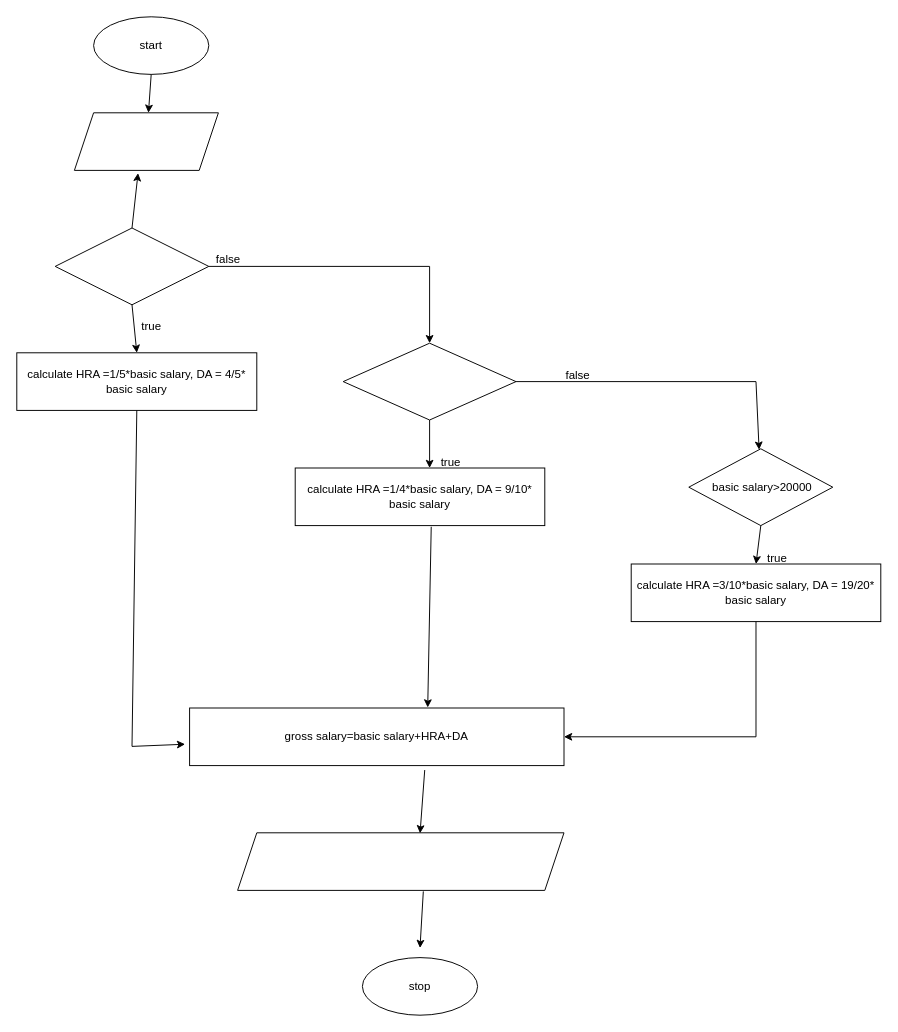
This 898x1032 diagram has some shape labels left out. The shapes that lost their labels are listed below. From the top down, each one's centre as x and y in pixels, then its label:
pixel 145 141: input basic salary
pixel 131 266: if basic salary<=10000
pixel 429 381: if basic salary<=20000
pixel 400 861: print gross salary
